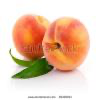Peach leaf: (11, 59, 54, 79), (9, 47, 37, 69)
